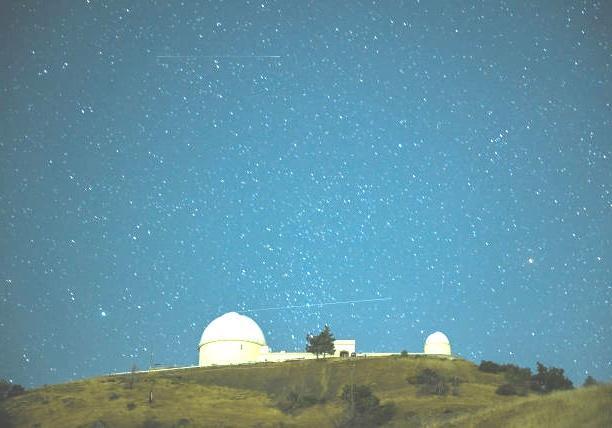meteorite: (242, 290, 399, 319), (148, 43, 293, 68)
